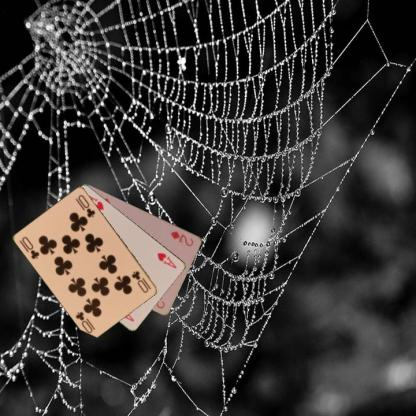10c: (129, 268, 152, 294), (20, 234, 41, 261)
2d: (168, 228, 195, 247)
Ah: (155, 250, 178, 270)
